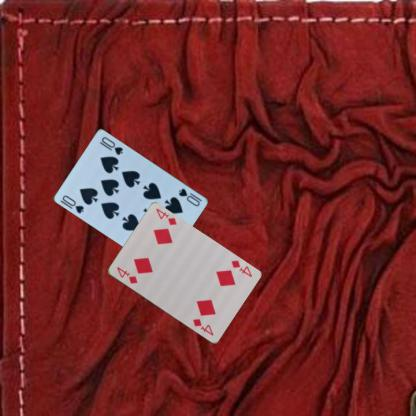10s: (176, 186, 204, 208), (60, 192, 86, 215)
4d: (113, 264, 138, 285), (228, 258, 253, 278)
